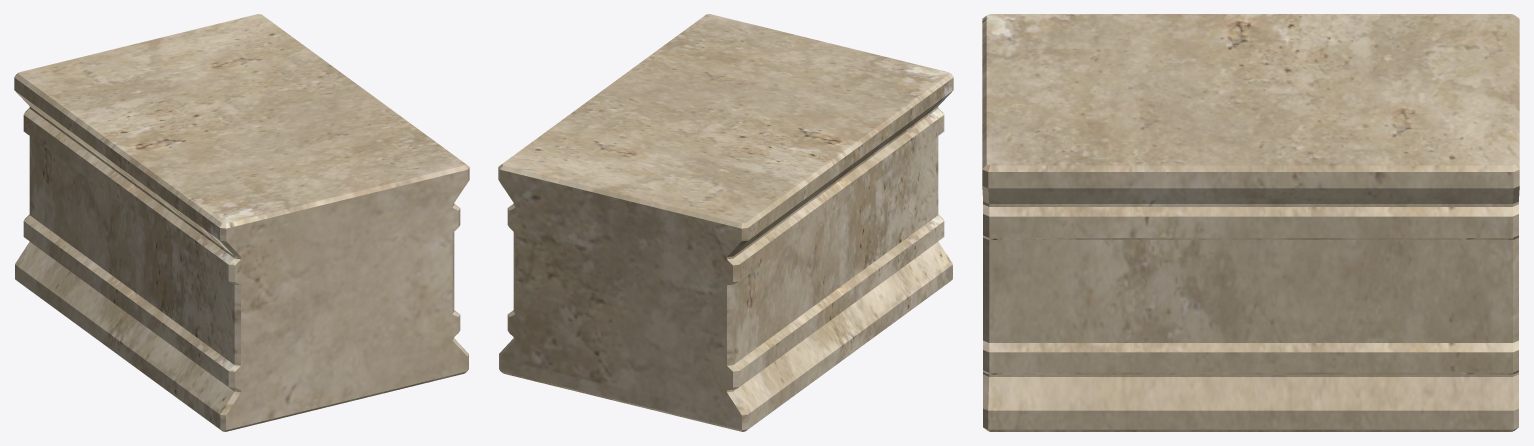
File: decorative_brick_short.FBX
The picture shows the model from 3 angles, left to right: view 1: azimuth 30°, elevation 25°; view 2: azimuth 150°, elevation 25°; view 3: azimuth 270°, elevation 25°; orthographic projection. The views are drawn at different scales.
Parts seen in each view (by area): view 1: Object158; view 2: Object158; view 3: Object158.
Boxes of the visible parts, left/top/right/bottom form: Object158: left=14, top=14, right=469, bottom=431; Object158: left=498, top=14, right=953, bottom=431; Object158: left=982, top=14, right=1519, bottom=431.
Bounding box in the file's own units: 64.79 × 51.69 × 94.46.
